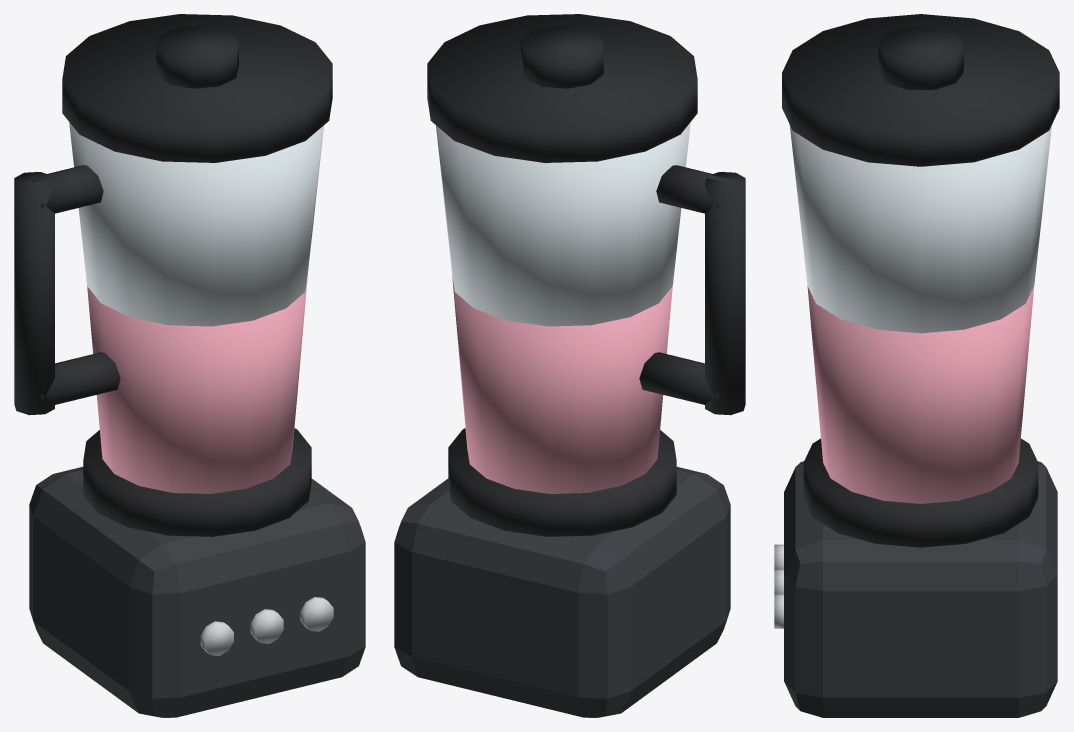
File: blender.glb
The picture shows the model from 3 angles, left to right: view 1: azimuth 30°, elevation 25°; view 2: azimuth 150°, elevation 25°; view 3: azimuth 270°, elevation 25°; orthographic projection.
Visible parts, largest first — view 1: blender; view 2: blender; view 3: blender.
Part boxes in pixels (x1=…): blender: x1=14, y1=14, x2=365, y2=717; blender: x1=394, y1=14, x2=745, y2=717; blender: x1=774, y1=14, x2=1059, y2=717.
Bounding box in the file's own units: 0.18 × 0.356 × 0.146.
